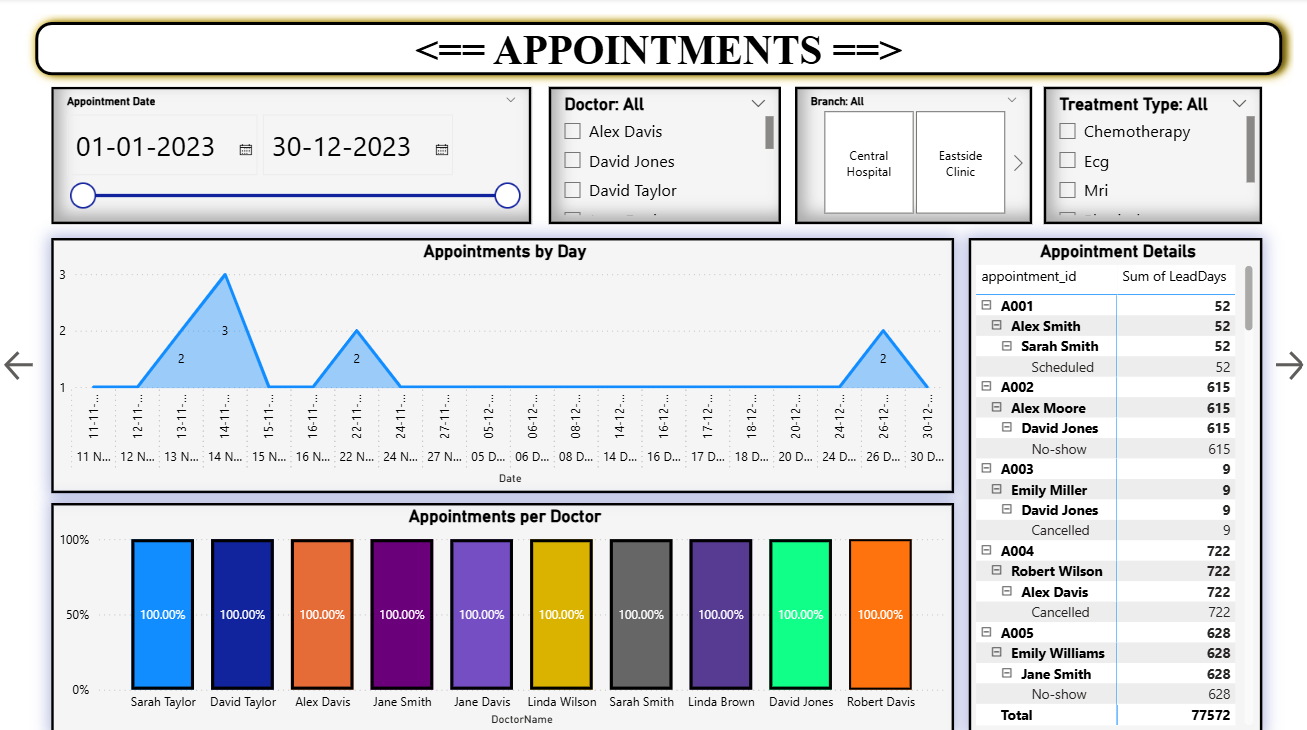

This screenshot's page, from the dashboard's own definition file:
{"tool":"powerbi","page":{"name":"Appointments","canvas":[1280,720],"ordinal":2},"visuals":[{"type":"stackedAreaChart","title":"Appointments by Day","fields":{"Category":["appointments.appointment_date","Date.Date"],"Y":["appointments.appointment_id"]},"box":[50.1,234.8,882.9,249.5],"z":0},{"type":"hundredPercentStackedColumnChart","title":"Appointments per Doctor","fields":{"Y":["appointments.appointment_id"],"Category":["doctors.DoctorName"]},"box":[50.1,494,882.9,226.2],"z":1000},{"type":"pivotTable","title":"Appointment Details","fields":{"Values":["appointments.LeadDays"],"Rows":["appointments.appointment_id","patients.FullName","doctors.DoctorName","appointments.status"]},"box":[947.7,234.8,287.4,485.5],"z":2000},{"type":"slicer","fields":{"Values":["doctors.hospital_branch"]},"box":[777.7,86.8,232.3,134.5],"z":3000},{"type":"slicer","fields":{"Values":["doctors.DoctorName"]},"box":[536.8,86.8,227.4,134.5],"z":4000},{"type":"slicer","fields":{"Values":["treatments.treatment_type"]},"box":[1021.1,86.8,214,134.5],"z":5000},{"type":"slicer","fields":{"Values":["appointments.appointment_date"]},"box":[50.1,86.8,469.6,134.5],"z":6000},{"type":"shape","box":[23.2,12.2,1242.4,74.6],"z":7000},{"type":"actionButton","box":[0,298.4,37.9,122.3],"z":8000},{"type":"actionButton","box":[1242.1,298.4,37.9,122.3],"z":9000}]}

Visuals, with their boxes in screenshot pixels (x1, y1, x2, y2), scaled from the page's 1280x720 canvas onto the 1307x730 screenshot:
"Appointments by Day" stackedAreaChart: bbox(51, 238, 953, 491)
"Appointments per Doctor" hundredPercentStackedColumnChart: bbox(51, 501, 953, 729)
"Appointment Details" pivotTable: bbox(968, 238, 1261, 729)
slicer - doctors.hospital_branch: bbox(794, 88, 1031, 224)
slicer - doctors.DoctorName: bbox(548, 88, 780, 224)
slicer - treatments.treatment_type: bbox(1043, 88, 1261, 224)
slicer - appointments.appointment_date: bbox(51, 88, 531, 224)
shape: bbox(24, 12, 1292, 88)
actionButton: bbox(0, 303, 39, 427)
actionButton: bbox(1268, 303, 1306, 427)
